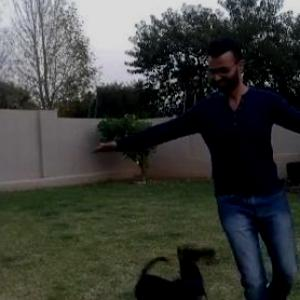land: (136, 53, 299, 294)
